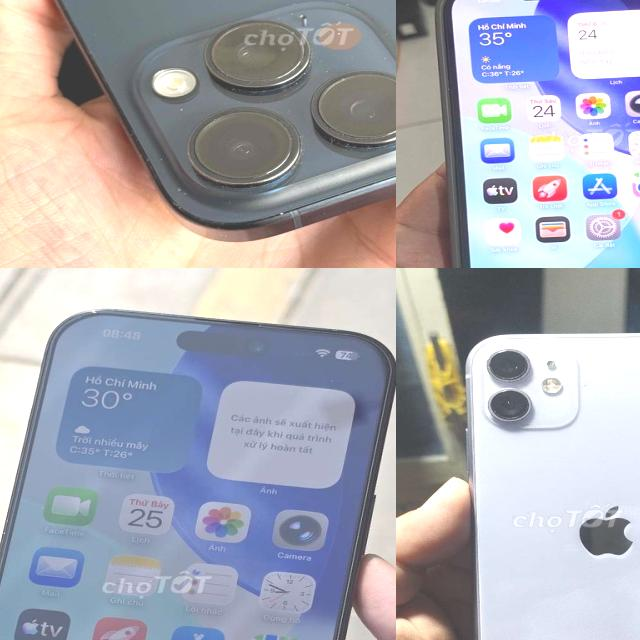gen_11: (453, 327, 640, 640)
gen_12_13: (431, 0, 640, 268)
gen_15: (40, 0, 396, 239)
gen_16: (0, 311, 394, 640)
scratch: (70, 302, 128, 331), (236, 312, 278, 342)
